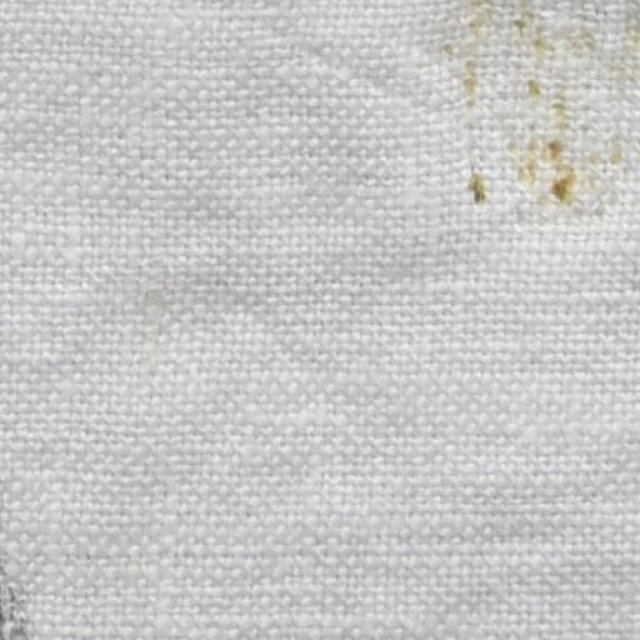Stain: (462, 0, 632, 222), (0, 489, 28, 639)
